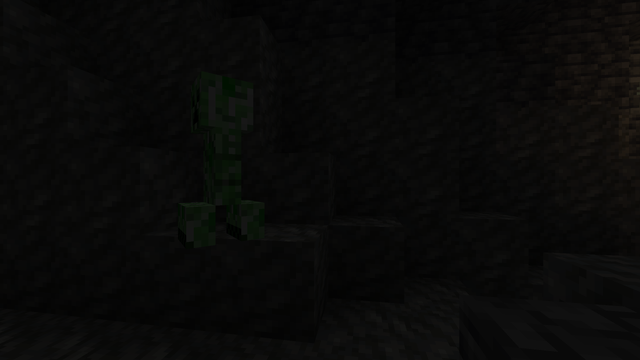creepers: (175, 63, 258, 247)
